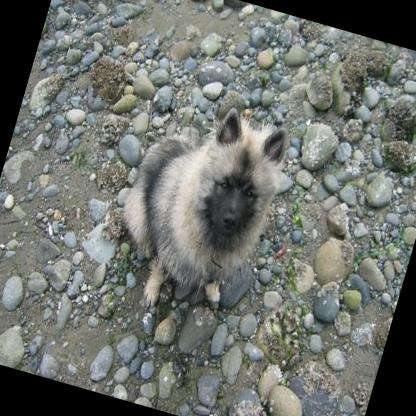keeshond: (98, 83, 294, 326)
